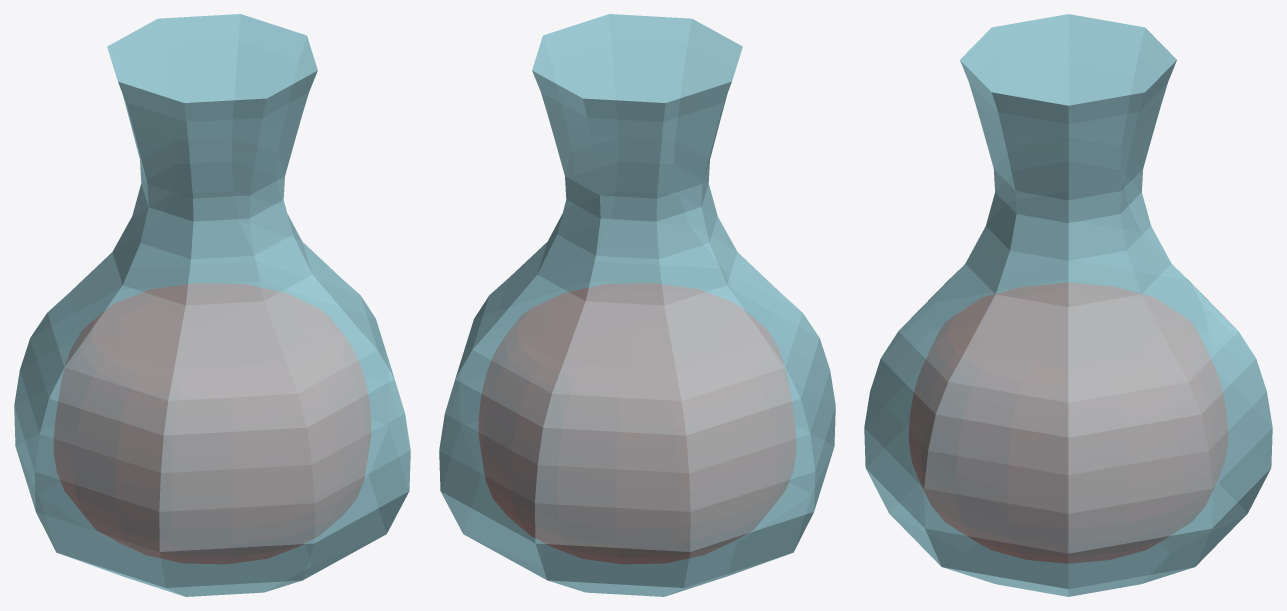
The model's file is Potion.glb.
The picture shows the model from 3 angles, left to right: view 1: azimuth 30°, elevation 25°; view 2: azimuth 150°, elevation 25°; view 3: azimuth 270°, elevation 25°; orthographic projection.
Visible parts, largest first — view 1: Bottle, Liquid; view 2: Bottle, Liquid; view 3: Bottle, Liquid.
Boxes of the visible parts, box(x1,y1,x2,y2) form: Bottle: box(14, 14, 410, 596); Liquid: box(54, 283, 370, 563); Bottle: box(439, 14, 835, 596); Liquid: box(479, 283, 795, 563); Bottle: box(864, 14, 1272, 596); Liquid: box(909, 283, 1227, 562).
Bounding box in the file's own units: 2.98 × 3.98 × 2.98.
